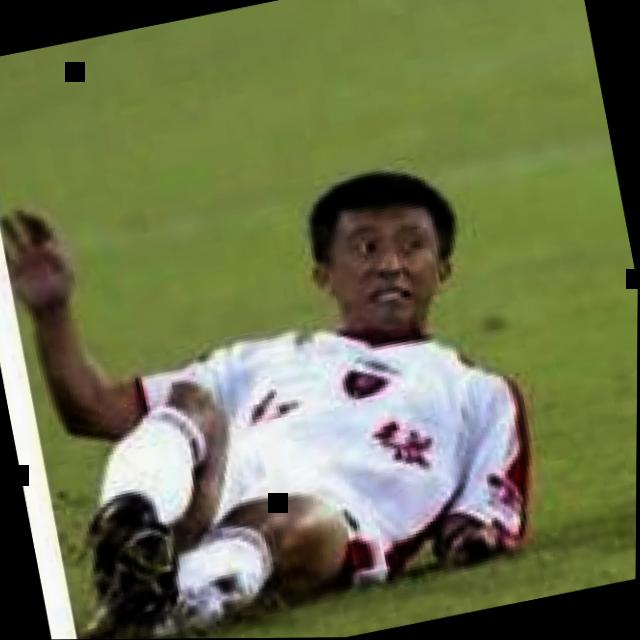Fall-Detected: (4, 85, 555, 640)
